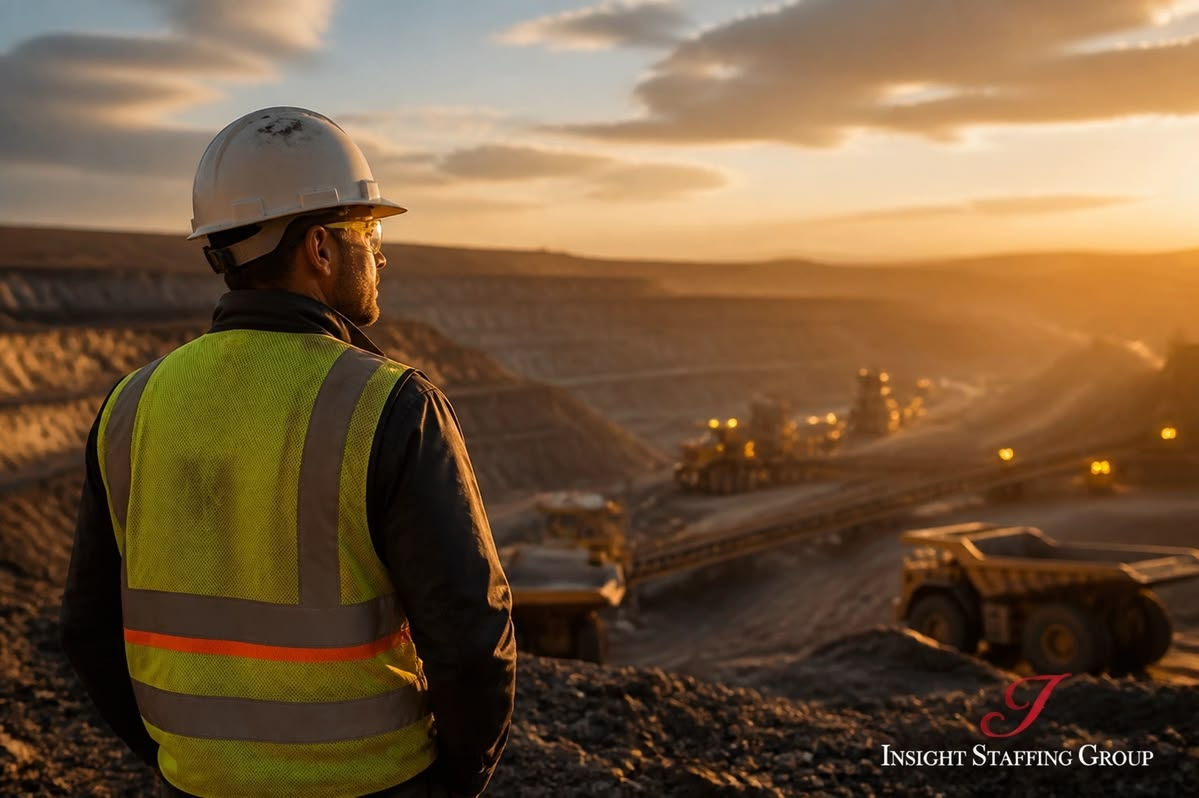hardhat: (174, 99, 411, 249)
person: (46, 80, 559, 786)
safety_vest: (94, 333, 427, 781)
truck: (872, 471, 1194, 719), (509, 453, 644, 670), (654, 405, 773, 488)
